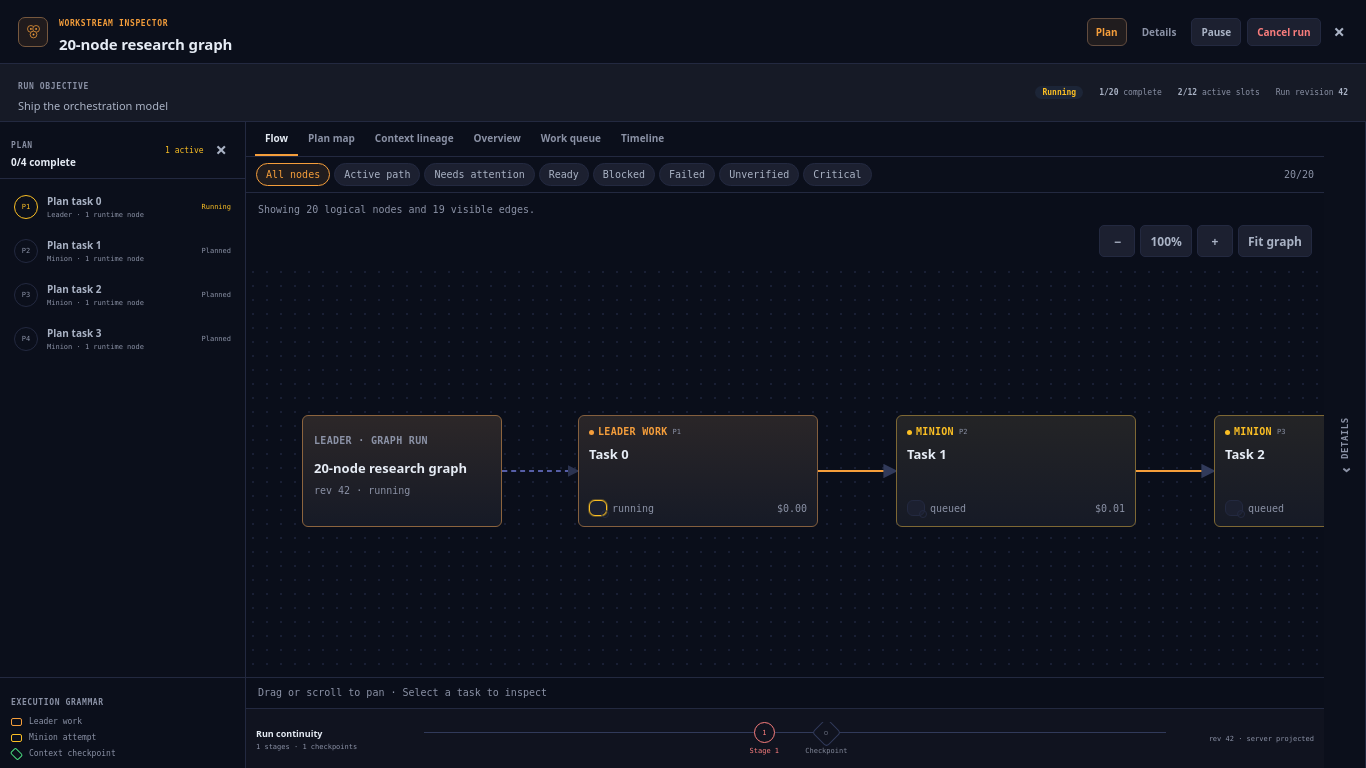
Test: GraphInspector › keeps the authored plan synchronized with flow and plan-map projections
Expected: the text "Ship the orchestration model" is shown, [18, 98, 168, 113]
Click the button "P2 Plan task 1 Minion · 1 runtime node planned": (122, 250) [7, 230, 238, 271]
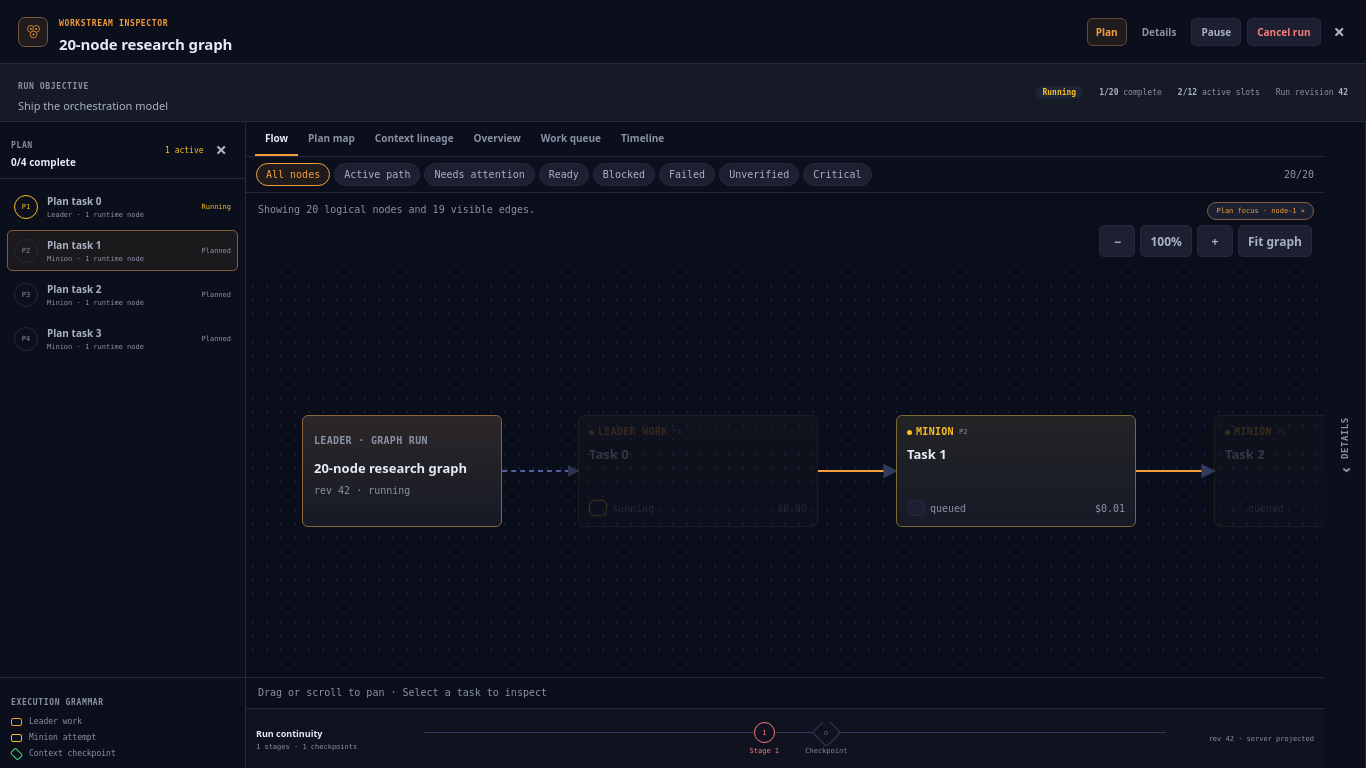
Expected: the button with class "is-dimmed" that starts with "Leader work" is shown, [578, 415, 818, 527]
Expected: the button "Plan focus · node-1 ×" is shown, [1208, 202, 1314, 220]
Click the tab "Plan map": (331, 139) [298, 122, 365, 156]
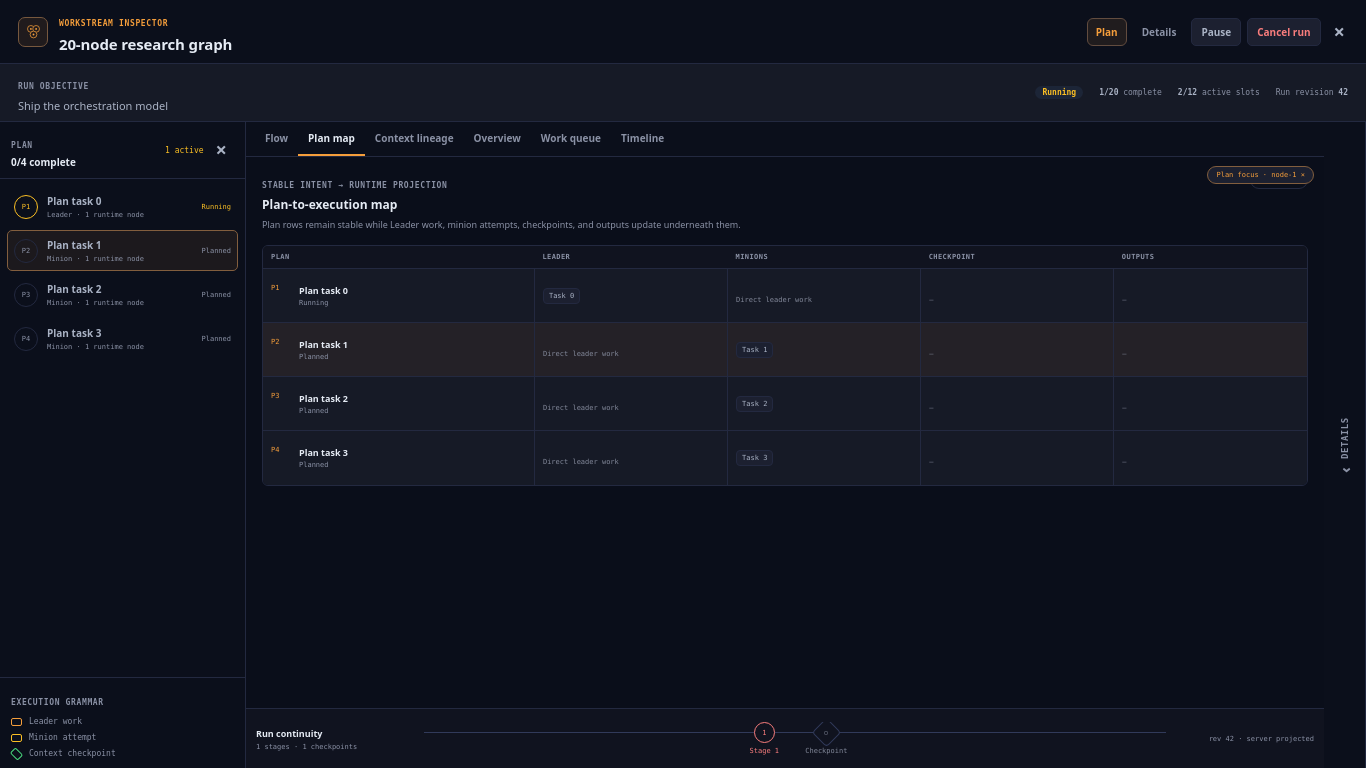
Expected: the text "4/4 mapped" is shown, [1250, 171, 1308, 189]
Expected: the column heading "Checkpoint" is shown, [921, 246, 1114, 268]
